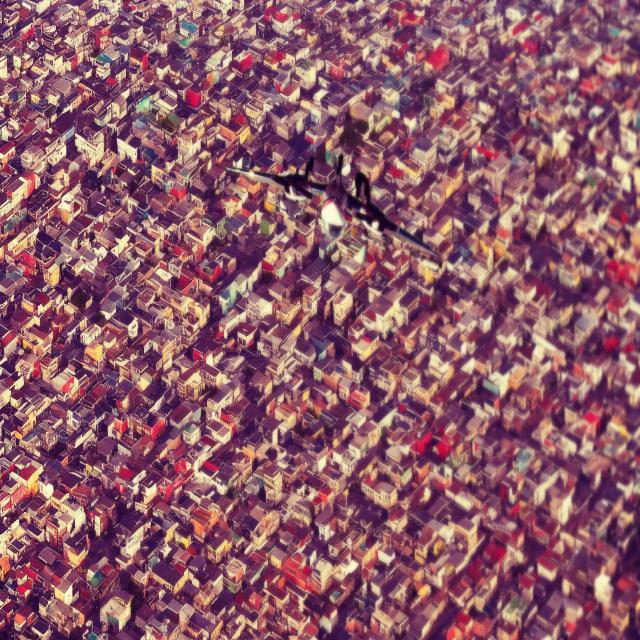airplane: (225, 150, 444, 266)
